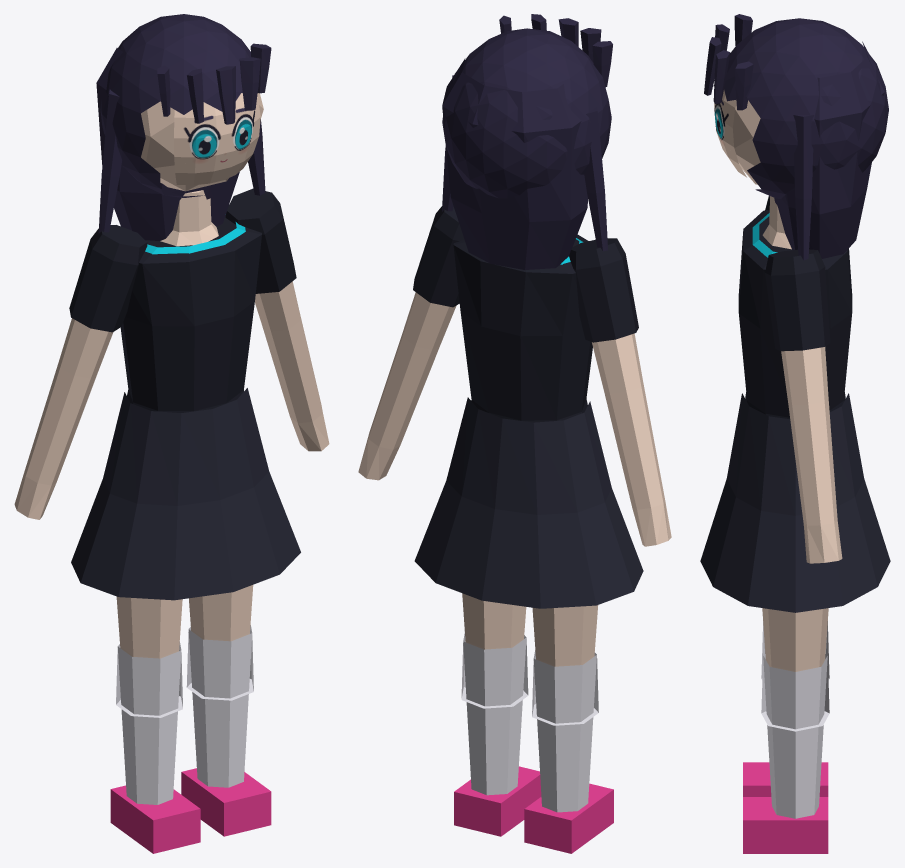
File: heki.glb
3 views of the same model, side by side, from view 1: azimuth 30°, elevation 25°; view 2: azimuth 150°, elevation 25°; view 3: azimuth 270°, elevation 25° (orthographic).
Visible parts, largest first — view 1: heki; view 2: heki; view 3: heki.
Boxes of the visible parts, x1=… form: heki: x1=14, y1=14, x2=329, y2=853; heki: x1=358, y1=14, x2=671, y2=853; heki: x1=700, y1=14, x2=890, y2=853.
Bounding box in the file's own units: 0.4089 × 1.01 × 0.217.
Materials: 8 (1 with a texture image).
